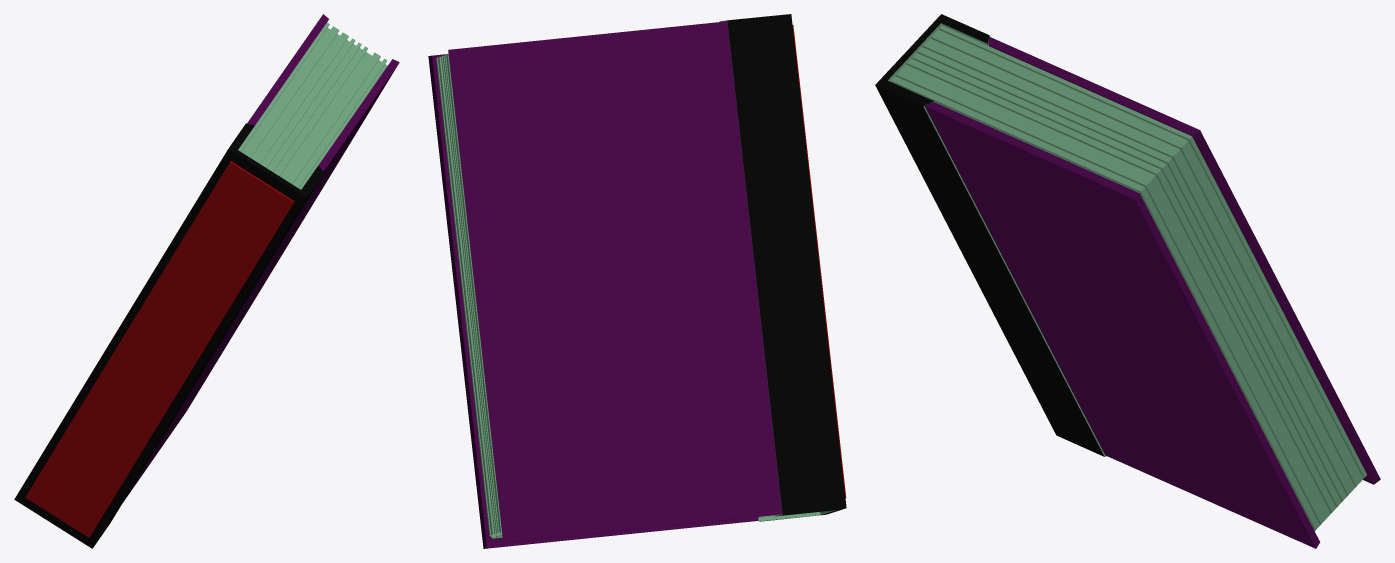
The model's file is TopShelfBook.fbx.
3 renders of one model, left to right at view 1: azimuth 30°, elevation 25°; view 2: azimuth 150°, elevation 25°; view 3: azimuth 270°, elevation 25°, orthographic. The views are drawn at different scales.
Visible parts, largest first — view 1: Book.022; view 2: Book.022; view 3: Book.022.
Part boxes in pixels (left/top/right/bottom): Book.022: left=14, top=14, right=399, bottom=548; Book.022: left=428, top=14, right=846, bottom=548; Book.022: left=875, top=14, right=1380, bottom=548.
Size of the model in its own units: 171 by 174 by 171.
